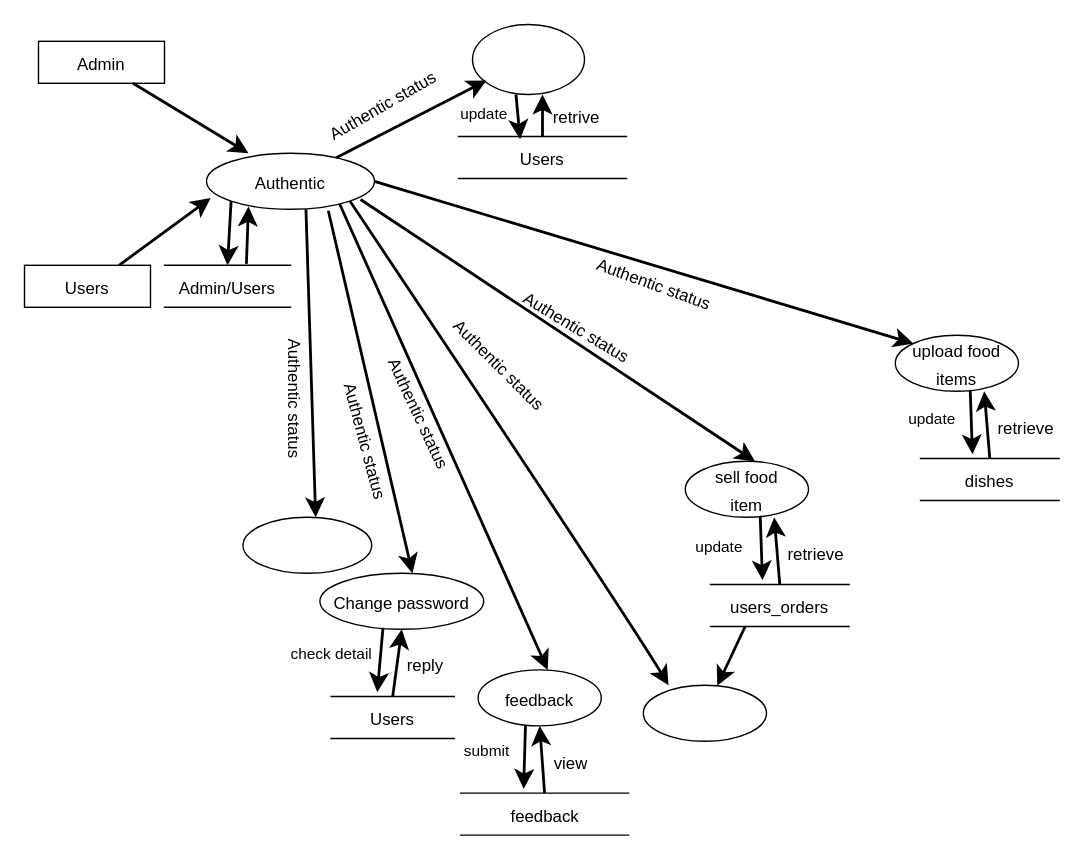
Some shapes in this 1092 by 860 pixel diagram are drawn without their labels. The box of each missing label's shape, as (x1, y1, x2, y2) in pixels:
LogOut: (241, 516, 372, 573)
update profile: (471, 23, 584, 94)
view order: (642, 684, 766, 741)
